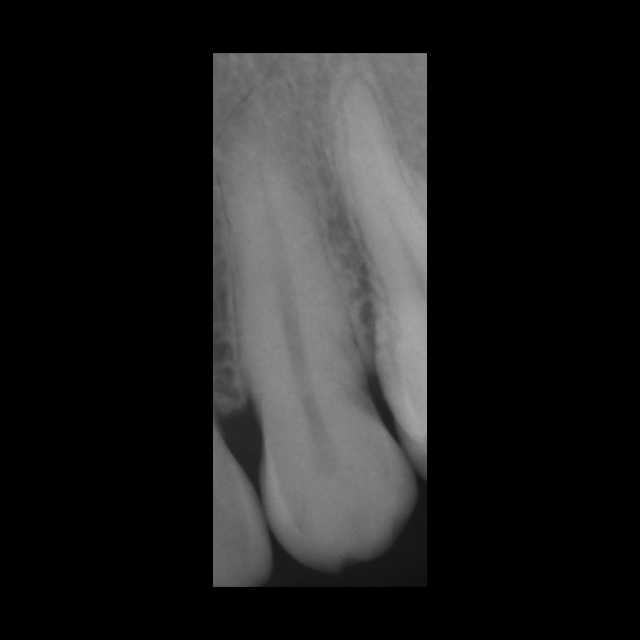tooth: (225, 135, 407, 563)
